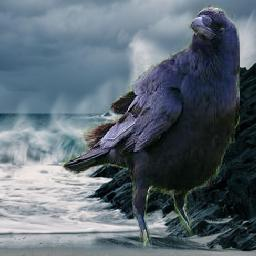Crow: (62, 5, 241, 247)
